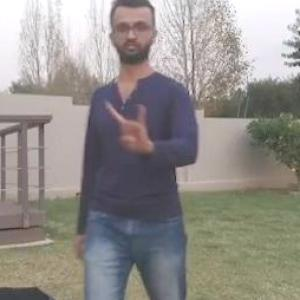takeoff-hand: (104, 97, 150, 152)
